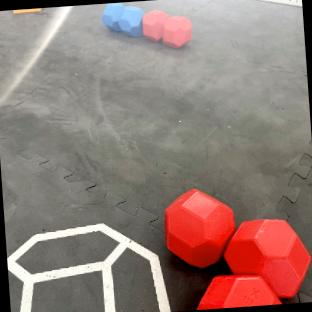V5_BLUE: (101, 2, 142, 35)
V5_RED: (199, 219, 308, 309), (163, 188, 233, 266), (142, 9, 191, 47)
